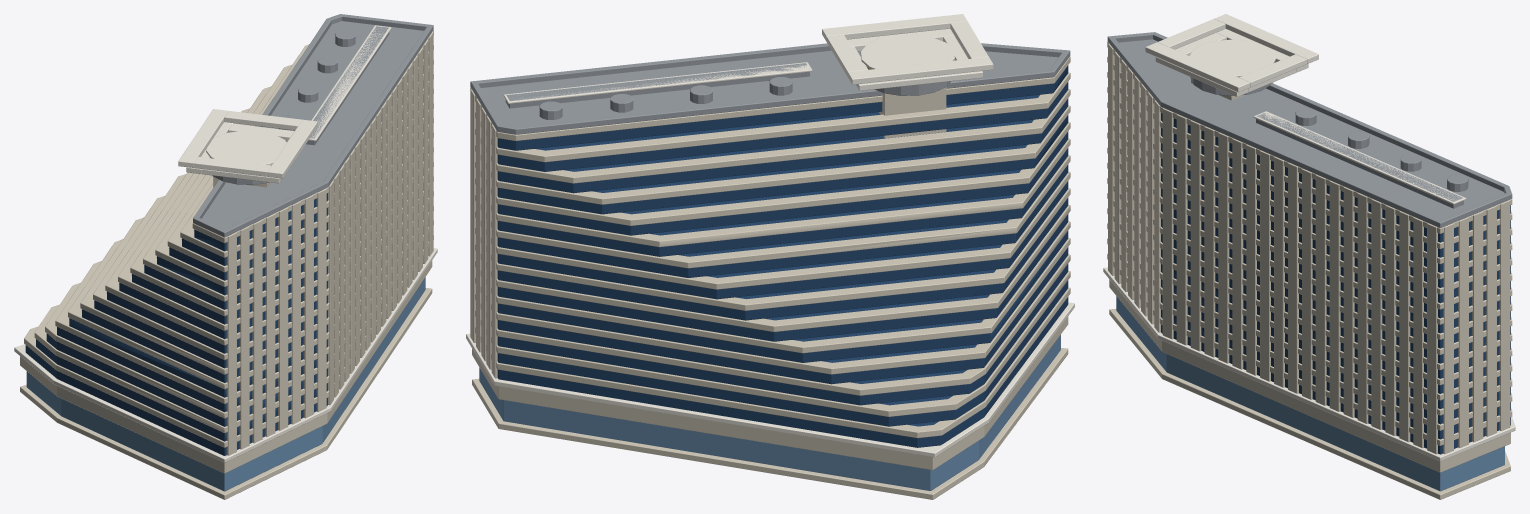
File: hyatt-regency.optimized.glb
The picture shows the model from 3 angles, left to right: view 1: azimuth 30°, elevation 25°; view 2: azimuth 150°, elevation 25°; view 3: azimuth 270°, elevation 25°; orthographic projection. The views are drawn at different scales.
Visible parts, largest first — view 1: grp_Toy_stone, grp_Toy_glass, grp_Toy_steel, grp_Toy_trim, podium_arcade; view 2: grp_Toy_stone, grp_Toy_glass, grp_Toy_steel, grp_Toy_trim, podium_arcade; view 3: grp_Toy_stone, grp_Toy_steel, grp_Toy_trim, grp_Toy_glass, podium_arcade.
Part boxes in pixels (x1,y1,x2,y2): grp_Toy_stone: (20,30,433,499); grp_Toy_glass: (25,193,327,455); grp_Toy_steel: (193,14,433,237); grp_Toy_trim: (14,25,437,462); podium_arcade: (26,277,425,491); grp_Toy_stone: (470,56,1070,499); grp_Toy_glass: (497,65,1068,447); grp_Toy_steel: (470,43,1070,134); grp_Toy_trim: (466,14,1074,457); podium_arcade: (479,335,1060,490); grp_Toy_stone: (1107,41,1512,499); grp_Toy_steel: (1107,32,1512,228); grp_Toy_trim: (1103,14,1515,461); grp_Toy_glass: (1127,72,1510,454); podium_arcade: (1116,296,1504,491).
Size of the model in its own units: 121 by 80.8 by 98.8.
